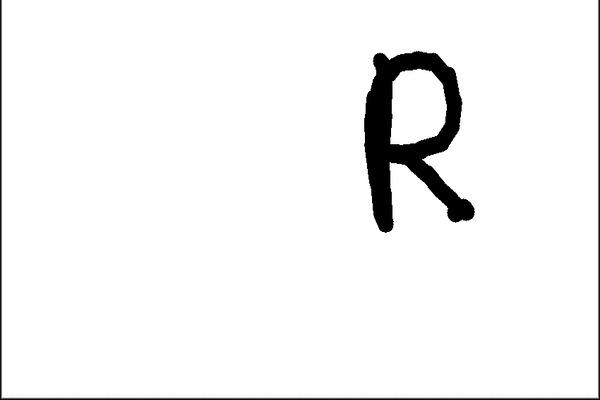R: (348, 43, 486, 244)
